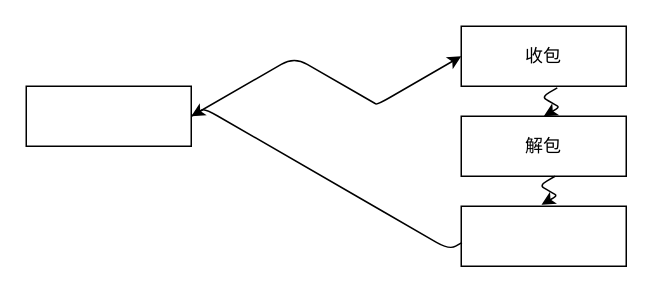
Some shapes in this 653 by 293 pixel diagram are drawn without their labels. The shapes that lost their labels are listed below. From the top down, each one's centre as x and y in pixels, then its label:
At [108,115]: "包处理函数".
At [543,235]: "赋值posx,posy,class_id".
